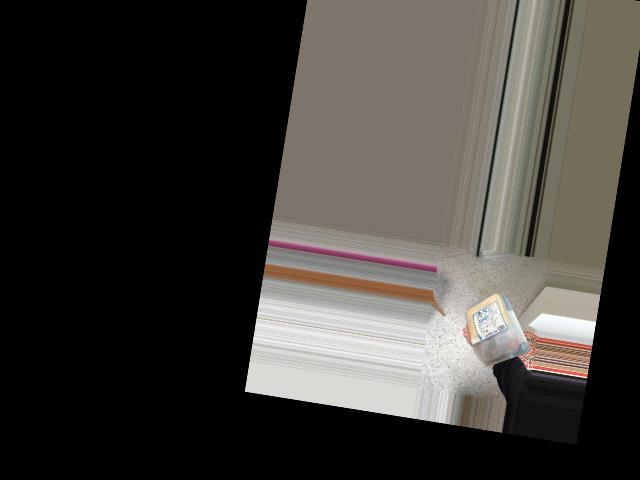cheese: (459, 290, 528, 364)
